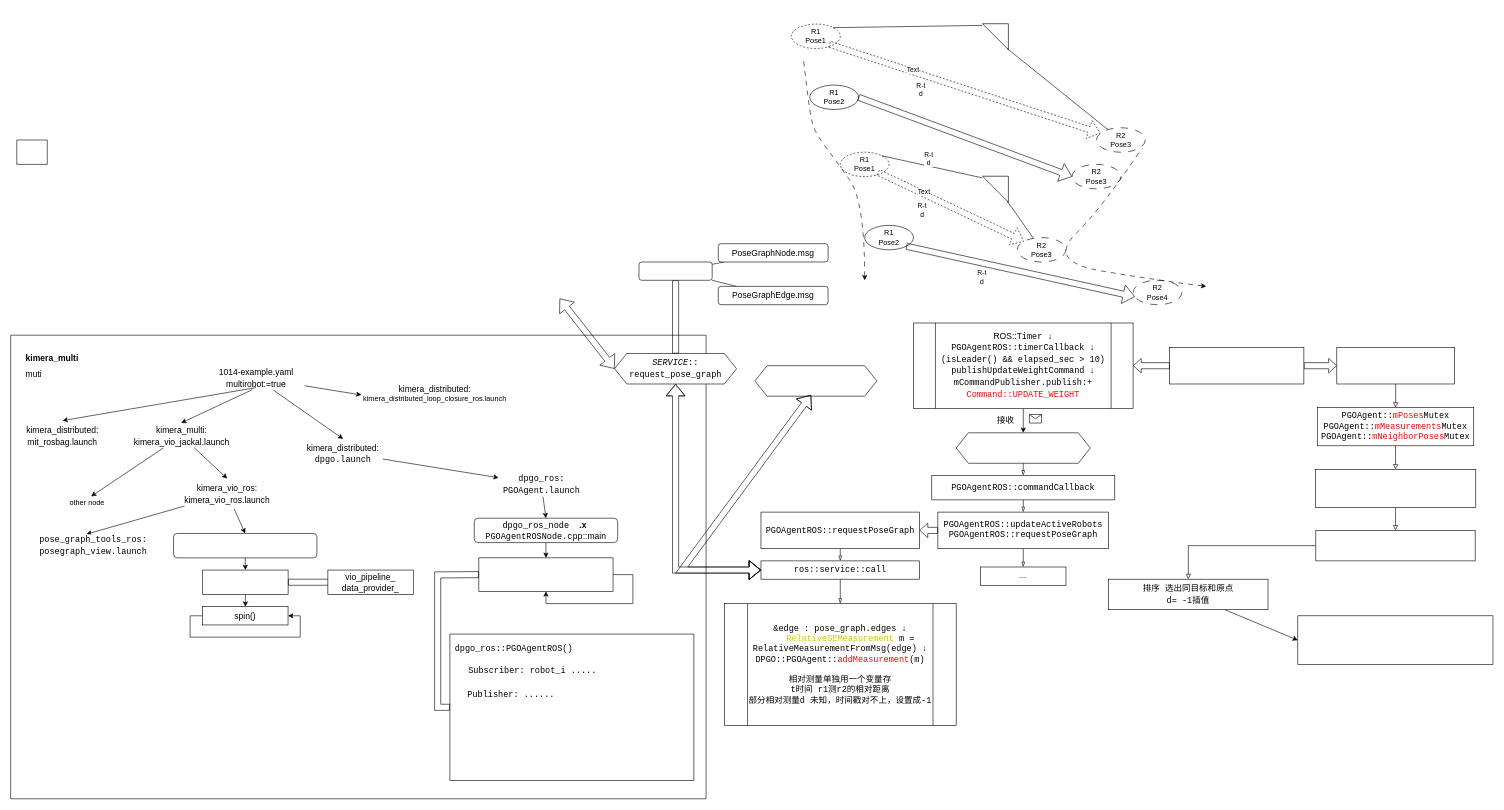
Some shapes in this 1504 by 810 pixel diagram are drawn without their labels. Each missing label, with the centre of its shape:
"dpgo_ros :: PGOAgentROS PGOAgent::iterate" belongs at [1236,365].
"kimera_vio_ros_node .x KimeraVioRosNode.cpp::main" belongs at [245,545].
"KimeraVioRos :: runKimeraVio()" belongs at [245,581].
"mPoseGraph->constructDataMatrices()" belongs at [1395,545].
"PGOAgent :: updateX" belongs at [1395,365].
"PGOAgent::mPoseGraph -> setNeighborPoses ( PGOAgent::neighborPoseDict )" belongs at [1395,488].
"PoseGraph.msg" belongs at [675,270].
"QuadraticProblem problem ( mPoseGraph ) QuadraticOptimizer optimizer 改优化的目标函数" belongs at [1395,640].
"ros:: spinOnce () dpgo_ros :: PGOAgentROS agent. runOnce ()" belongs at [545,574].
"SERVICE :: request_relative d" belongs at [815,380].
"TOPIC :: $topic_prefix /command" belongs at [1023,447].
